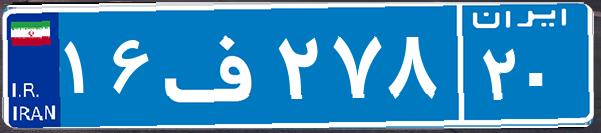0: (525, 38, 570, 115)
1: (57, 26, 110, 107)
2: (273, 28, 330, 110), (475, 38, 525, 113)
6: (110, 28, 158, 105)
7: (330, 28, 385, 110)
8: (385, 28, 445, 110)
ف: (158, 15, 273, 115)
